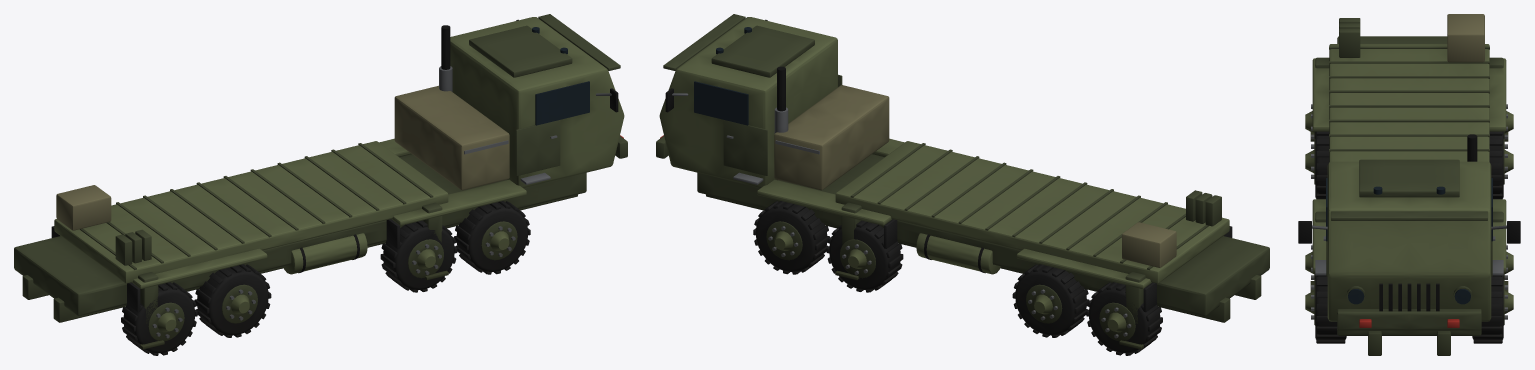
The model's file is launcher_base.glb.
The picture shows the model from 3 angles, left to right: view 1: azimuth 30°, elevation 25°; view 2: azimuth 150°, elevation 25°; view 3: azimuth 270°, elevation 25°; orthographic projection. The views are drawn at different scales.
Parts seen in each view (by area): view 1: Cone; view 2: Cone; view 3: Cone.
Part boxes in pixels (x1=…): Cone: x1=14, y1=14, x2=627, y2=355; Cone: x1=656, y1=14, x2=1269, y2=355; Cone: x1=1298, y1=14, x2=1520, y2=355.
Bounding box in the file's own units: 11.46 × 3.73 × 3.54.
